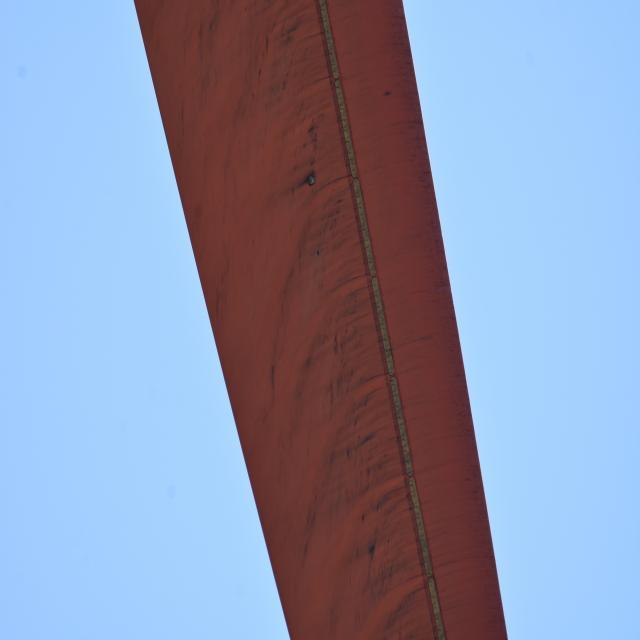Coating_defects: (301, 169, 324, 194)
